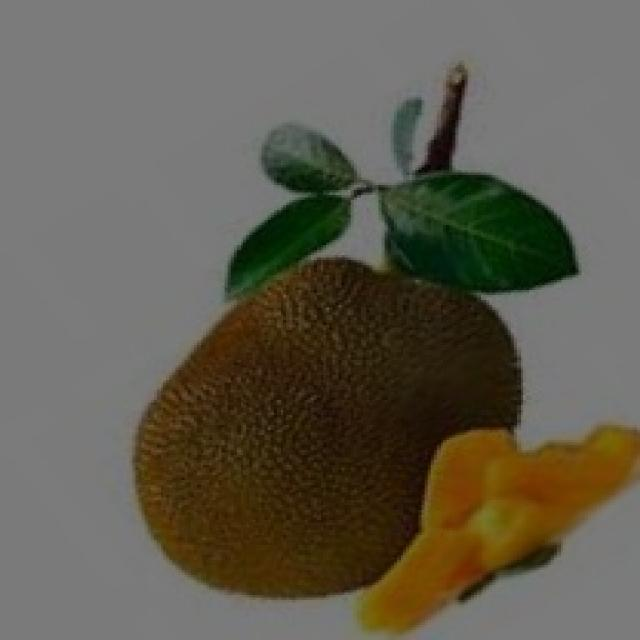Fruit: (108, 233, 492, 635)
